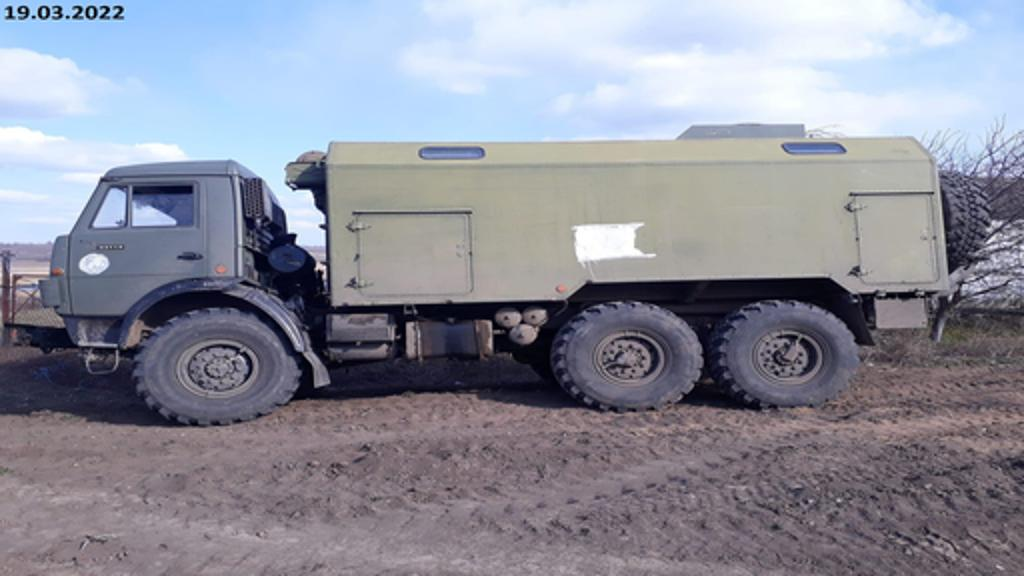TRUCK: (34, 116, 968, 436)
